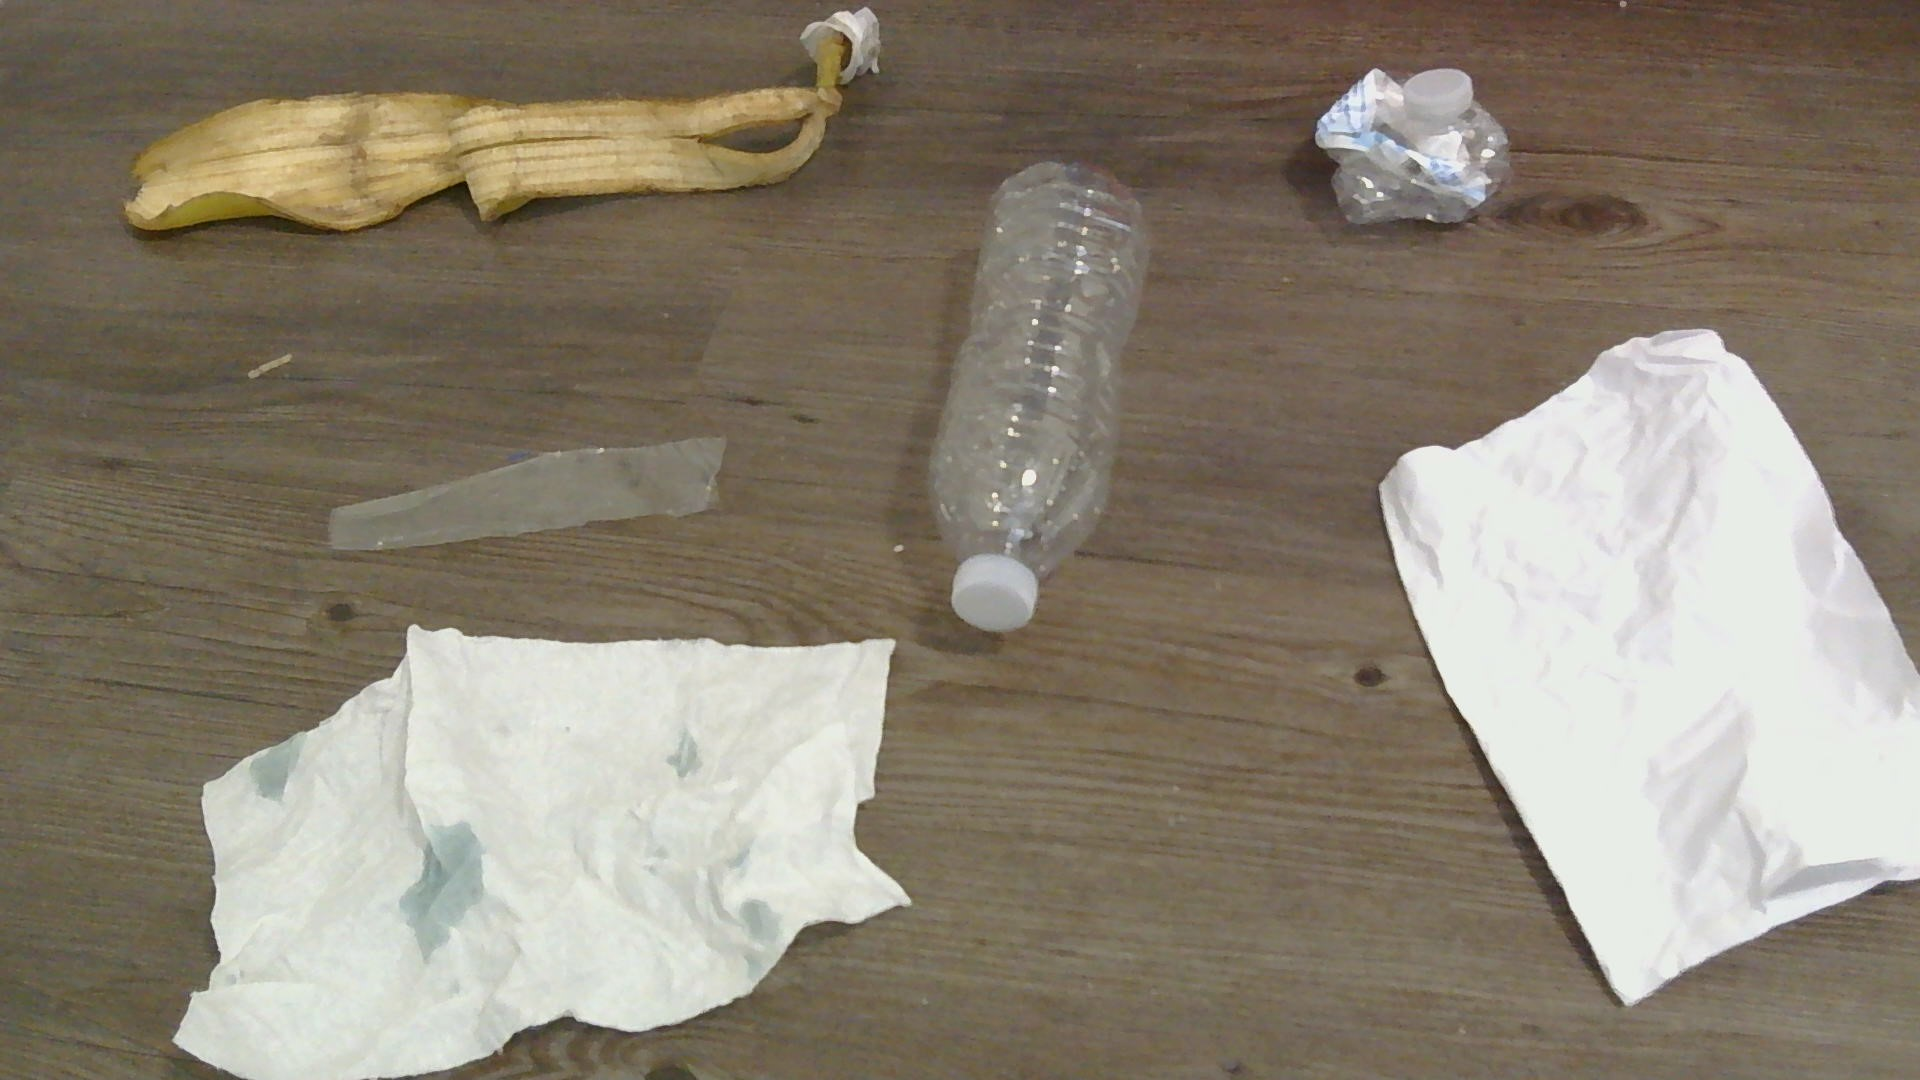banana peel: (127, 7, 880, 231)
bottle: (930, 150, 1155, 640)
crushed bottle: (1313, 66, 1515, 231)
napkin: (186, 630, 915, 1080)
paper: (1374, 330, 1917, 1000)
plastic piece: (318, 426, 723, 555)
